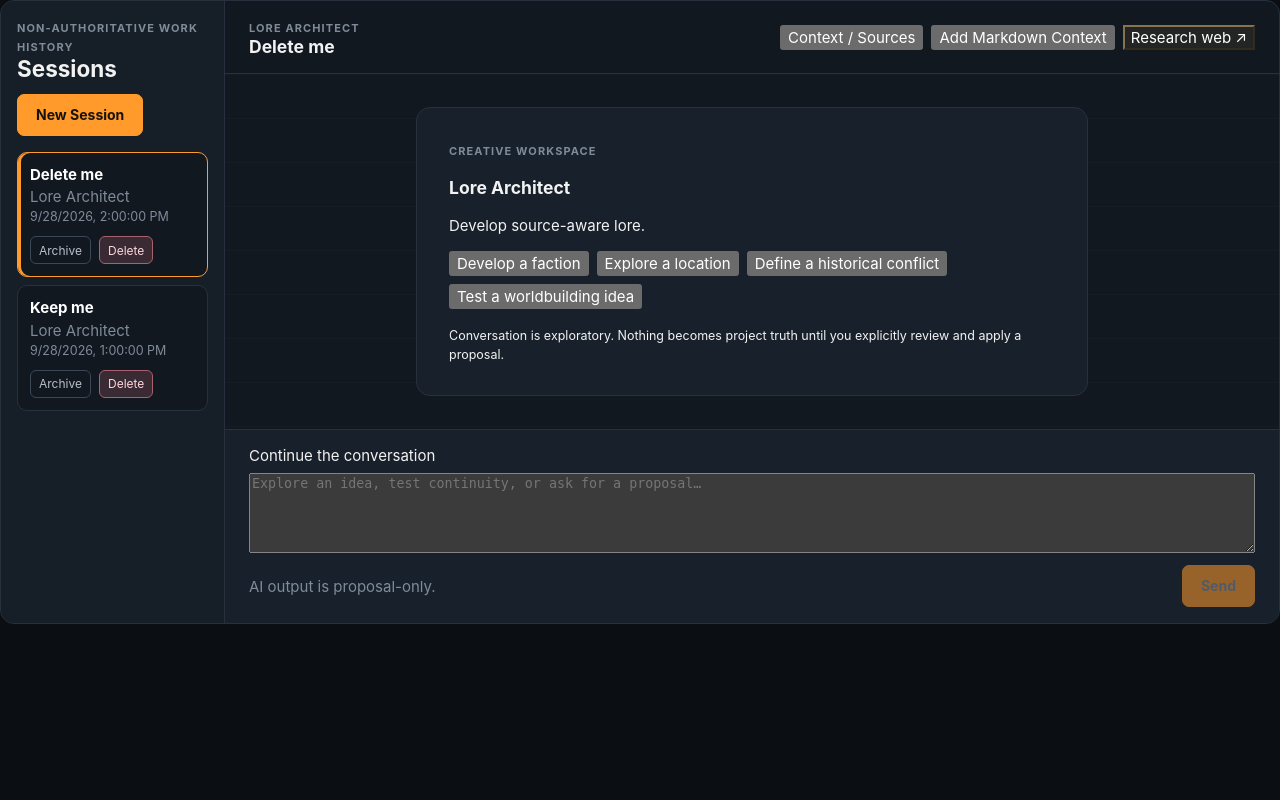
Test: Writers' Room › requires confirmation to delete and falls back to the next active session
Expected: the heading "Delete me" is shown, 249,36 -> 335,57
Step 1. Click the button with aria-label "Delete Delete me" → (126, 250), box 99,236 -> 153,264
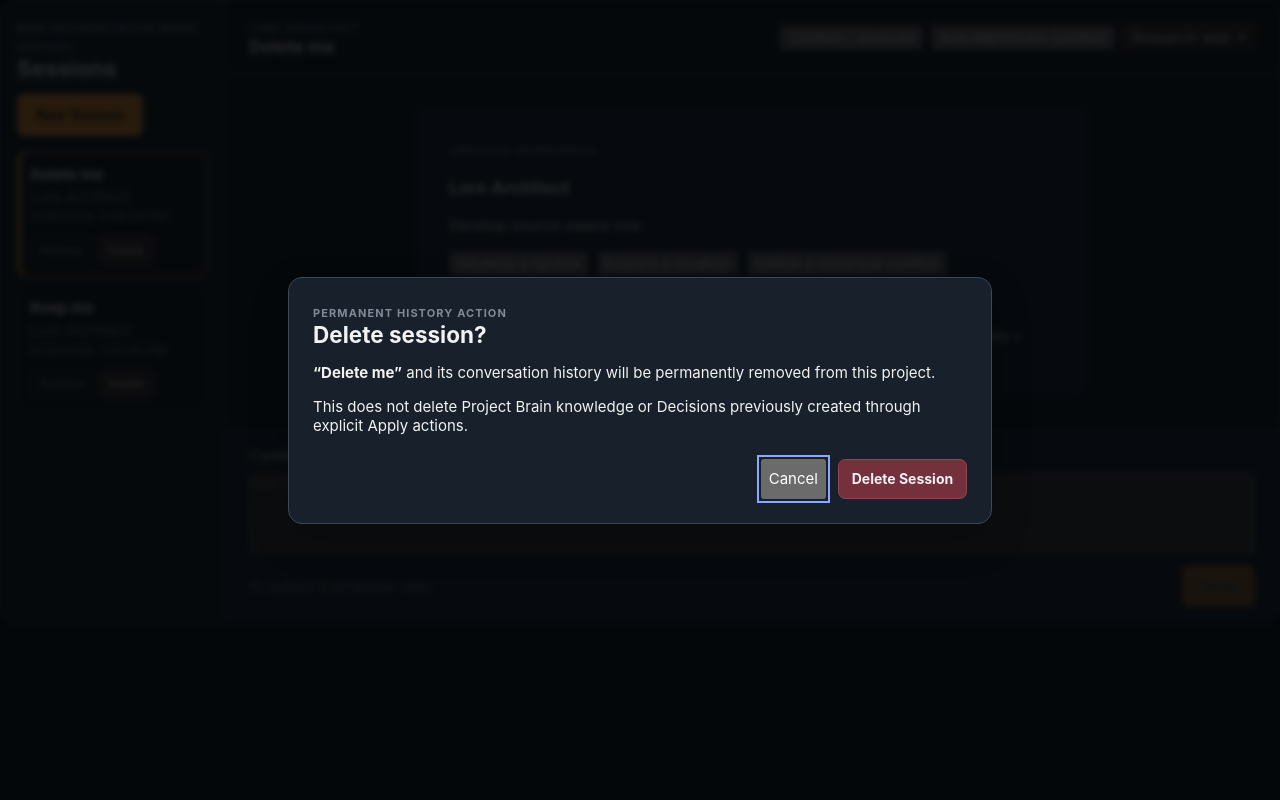
Result: the dialog "Delete session?" shows "conversation history will be permanently removed" at 402,362 -> 935,382
Result: the dialog "Delete session?" shows "does not delete Project Brain knowledge or Decisions" at 313,396 -> 921,434
Step 2. Click the button "Cancel" → (793, 478), box 761,458 -> 826,498
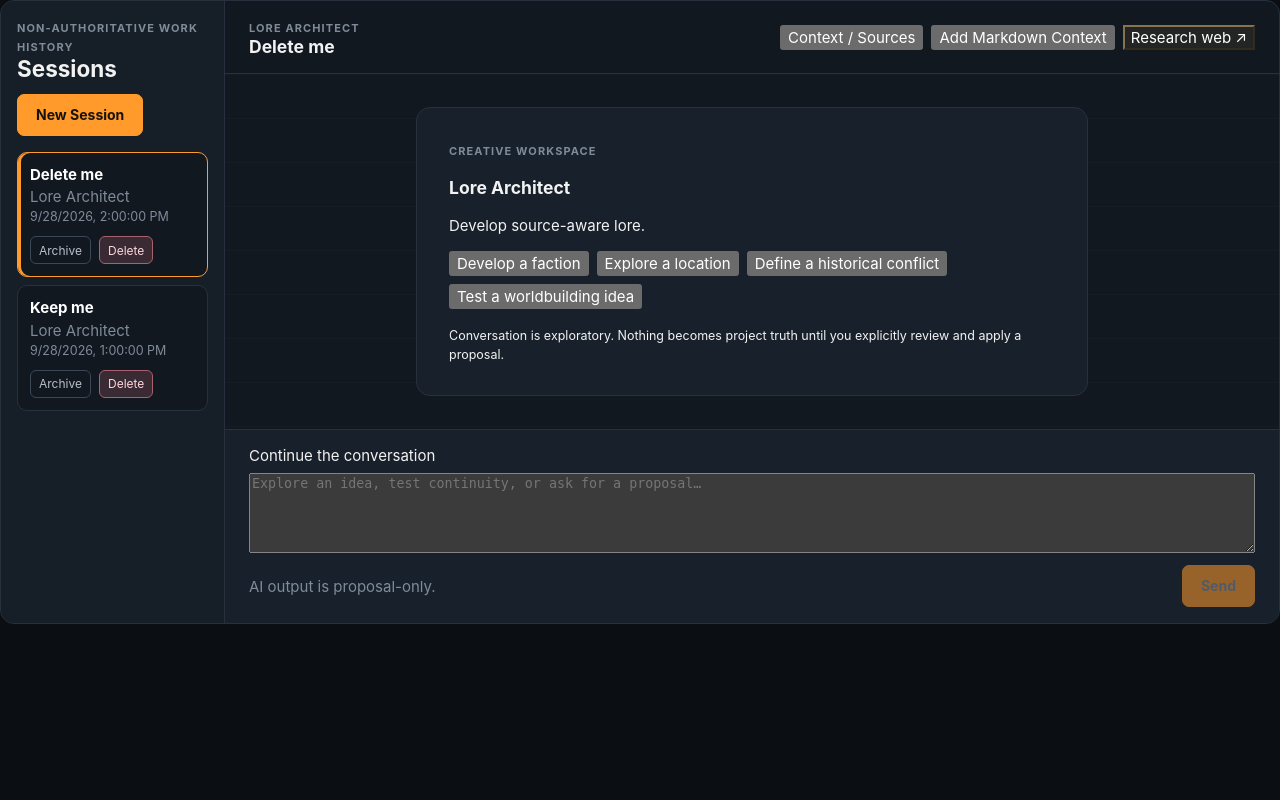
Step 3. Click the button with aria-label "Delete Delete me" → (126, 250), box 99,236 -> 153,264
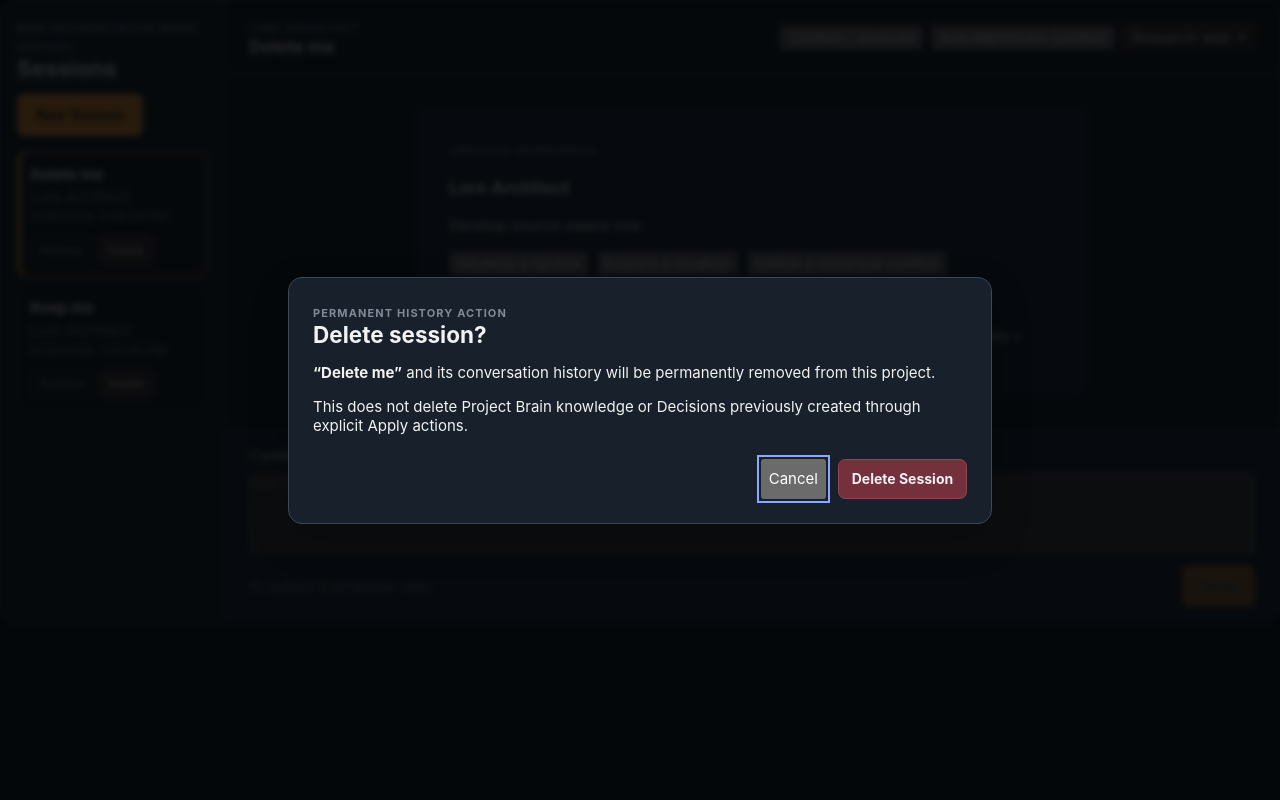
Step 4. Click the button "Delete Session" → (902, 478), box 838,458 -> 967,498
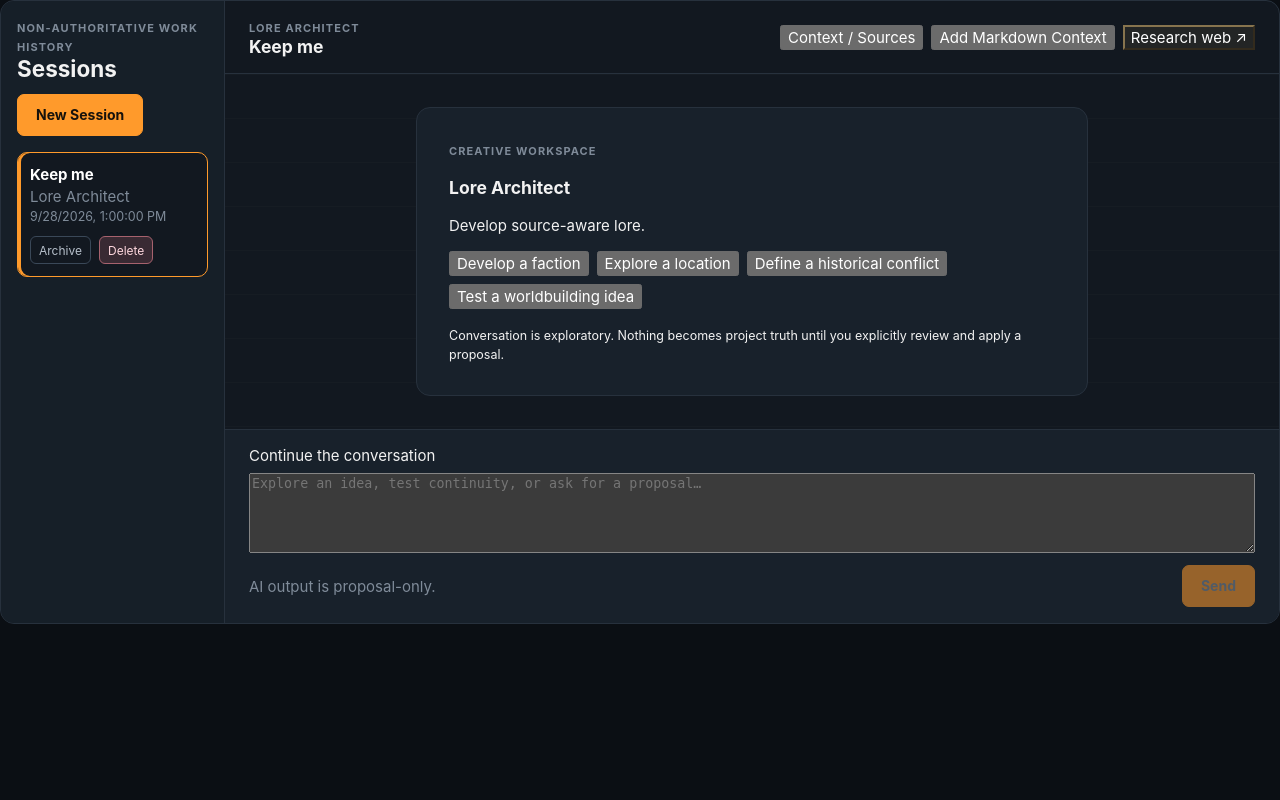
Result: the heading "Keep me" is shown at 249,36 -> 324,57
Result: the button "Delete me" is gone
